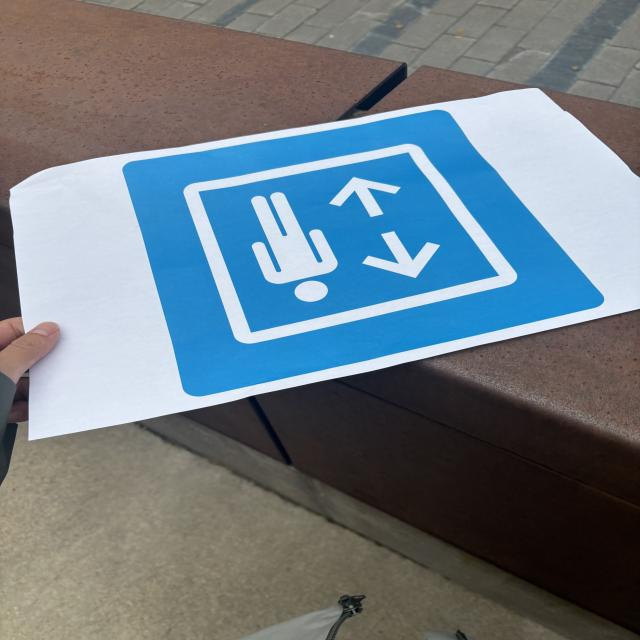elevator: (124, 110, 604, 397)
